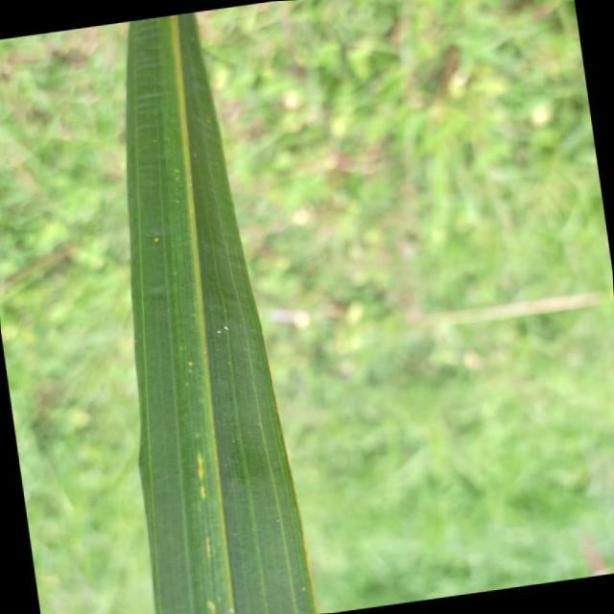Boron: (120, 11, 315, 614)
